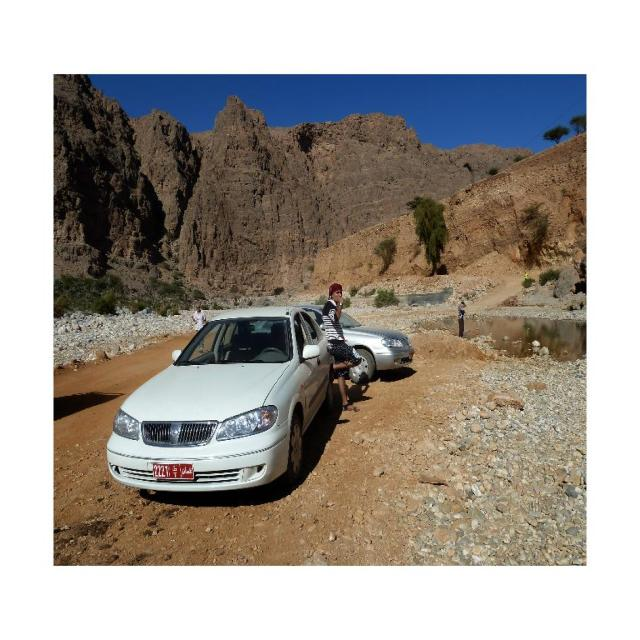car: (102, 295, 384, 502)
